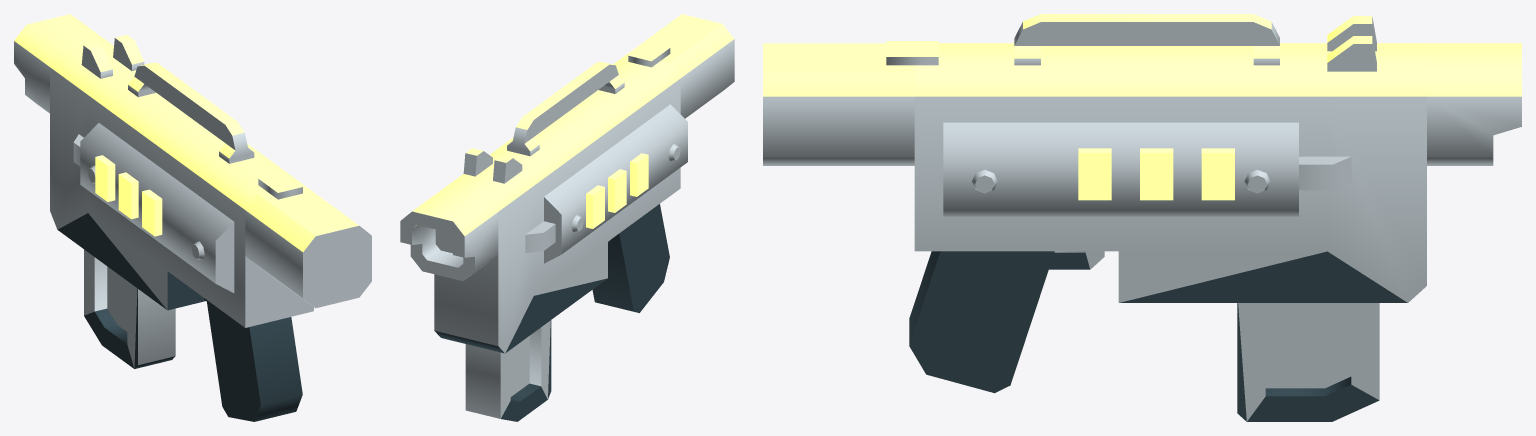
The model's file is pulse-polar-v1.glb.
3 renders of one model, left to right at view 1: azimuth 30°, elevation 25°; view 2: azimuth 150°, elevation 25°; view 3: azimuth 270°, elevation 25°, orthographic. The views are drawn at different scales.
Parts seen in each view (by area): view 1: pulse_Polar_Body; view 2: pulse_Polar_Body; view 3: pulse_Polar_Body.
Boxes of the visible parts, box(x1,y1,x2,y2) form: pulse_Polar_Body: box(14, 14, 371, 421); pulse_Polar_Body: box(400, 14, 734, 421); pulse_Polar_Body: box(763, 14, 1521, 421).
Size of the model in its own units: 0.2 by 0.4559 by 0.8.
